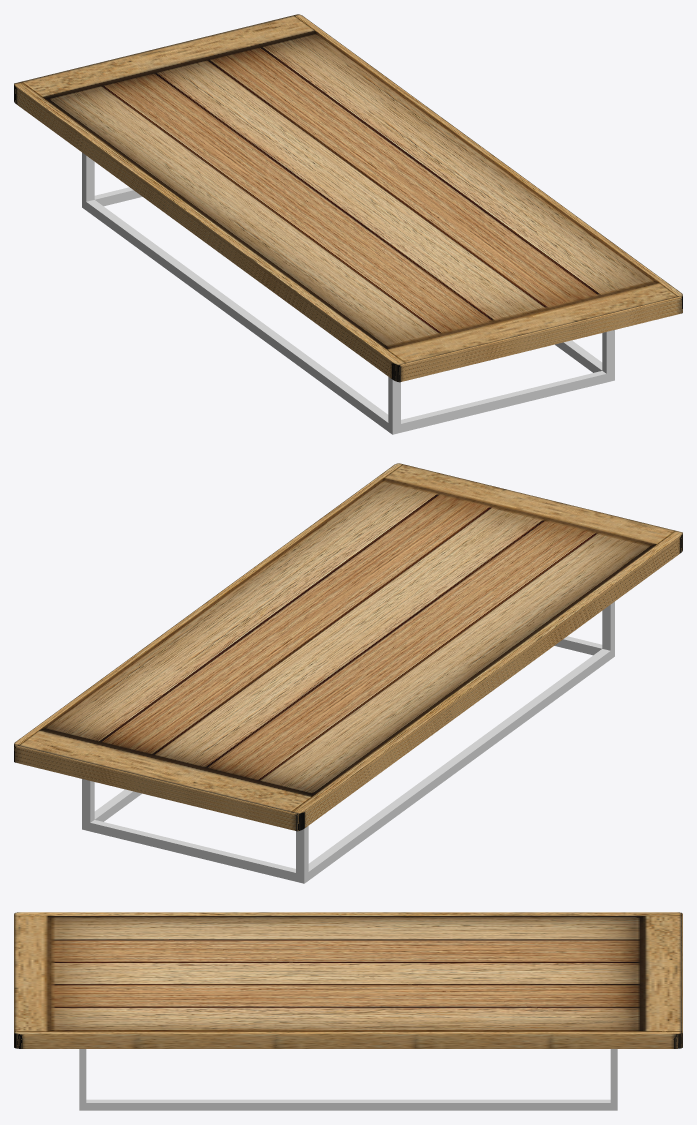
Rendered from table.glb.
3 views of the same model, one above another, from view 1: azimuth 30°, elevation 25°; view 2: azimuth 150°, elevation 25°; view 3: azimuth 270°, elevation 25° (orthographic). The views are drawn at different scales.
Visible parts, largest first — view 1: frame; view 2: frame; view 3: frame.
Part boxes in pixels (left/top/right/bottom): frame: left=14, top=14, right=682, bottom=434; frame: left=14, top=463, right=682, bottom=883; frame: left=14, top=912, right=682, bottom=1110.
Size of the model in its own units: 5.39 by 1.87 by 12.49.
2 materials, 1 textured.
